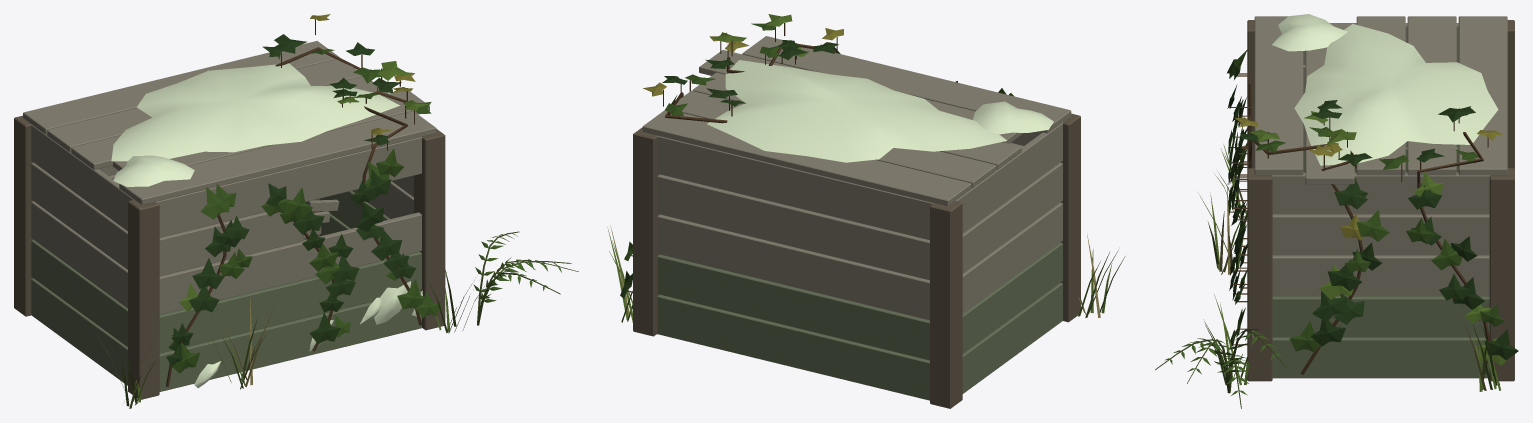
The model's file is overgrown_crate.glb.
3 views of the same model, side by side, from view 1: azimuth 30°, elevation 25°; view 2: azimuth 150°, elevation 25°; view 3: azimuth 270°, elevation 25° (orthographic). The views are drawn at different scales.
Parts seen in each view (by area): view 1: teil1, teil0, teil3, teil2, teil7, teil6, teil5, teil4, teil10, teil13, teil8, teil12 (+1 smaller); view 2: teil1, teil0, teil3, teil2, teil7, teil10, teil6, teil5, teil9, teil8; view 3: teil1, teil3, teil0, teil2, teil7, teil6, teil5, teil10, teil8, teil13, teil9, teil12 (+1 smaller).
Boxes of the visible parts, left/top/right/bottom form: teil1: left=23, top=41, right=436, bottom=314; teil0: left=31, top=191, right=421, bottom=391; teil3: left=111, top=63, right=399, bottom=186; teil2: left=14, top=115, right=445, bottom=399; teil7: left=167, top=34, right=416, bottom=365; teil6: left=171, top=49, right=441, bottom=373; teil5: left=166, top=19, right=429, bottom=386; teil4: left=194, top=271, right=447, bottom=387; teil10: left=97, top=267, right=484, bottom=408; teil13: left=473, top=233, right=561, bottom=302; teil8: left=179, top=61, right=429, bottom=311; teil12: left=477, top=231, right=578, bottom=325; teil1: left=642, top=36, right=1071, bottom=320; teil0: left=657, top=242, right=1062, bottom=400; teil3: left=707, top=60, right=1053, bottom=162; teil2: left=633, top=113, right=1080, bottom=408; teil7: left=620, top=40, right=957, bottom=298; teil10: left=607, top=227, right=1125, bottom=322; teil6: left=624, top=22, right=1014, bottom=260; teil5: left=627, top=23, right=837, bottom=292; teil9: left=643, top=28, right=843, bottom=96; teil8: left=671, top=14, right=809, bottom=104; teil1: left=1254, top=16, right=1507, bottom=296; teil3: left=1272, top=14, right=1498, bottom=165; teil0: left=1272, top=146, right=1489, bottom=378; teil2: left=1247, top=20, right=1514, bottom=381; teil7: left=1227, top=84, right=1518, bottom=360; teil6: left=1227, top=48, right=1504, bottom=352; teil5: left=1229, top=73, right=1498, bottom=374; teil10: left=1199, top=144, right=1500, bottom=391; teil8: left=1239, top=111, right=1510, bottom=365; teil13: left=1165, top=329, right=1282, bottom=395; teil9: left=1235, top=117, right=1502, bottom=240; teil12: left=1155, top=329, right=1286, bottom=408.
Size of the model in its own units: 1.59 by 0.7623 by 1.01.
